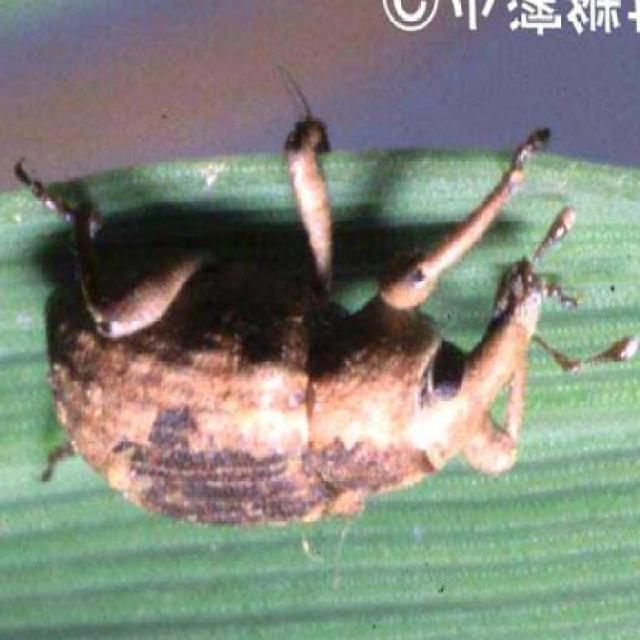rice-bug: (38, 177, 560, 532)
